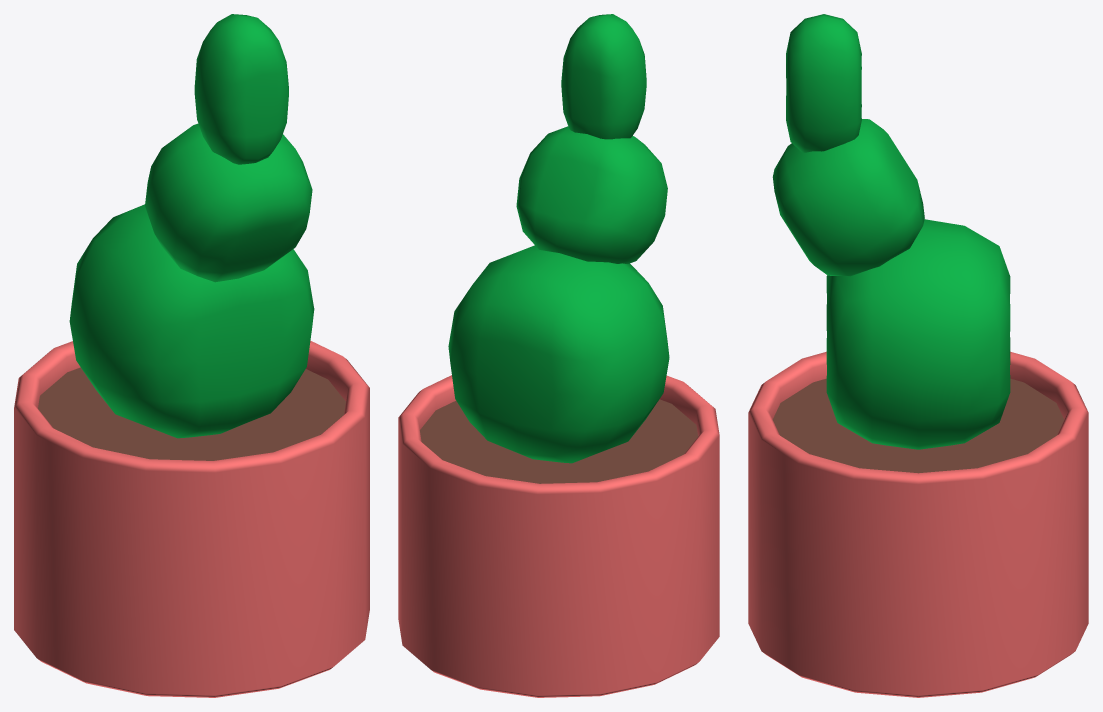
File: Town_6_Plant_3.glb
The picture shows the model from 3 angles, left to right: view 1: azimuth 30°, elevation 25°; view 2: azimuth 150°, elevation 25°; view 3: azimuth 270°, elevation 25°; orthographic projection. The views are drawn at different scales.
Parts seen in each view (by area): view 1: Town_6_Plant_3; view 2: Town_6_Plant_3; view 3: Town_6_Plant_3.
Part boxes in pixels (box(x1,y1,x2,y2)): Town_6_Plant_3: box(14, 14, 369, 697); Town_6_Plant_3: box(398, 14, 719, 697); Town_6_Plant_3: box(748, 14, 1088, 697).
Size of the model in its own units: 0.1643 by 0.326 by 0.1643.
Materials: 1 (1 with a texture image).
